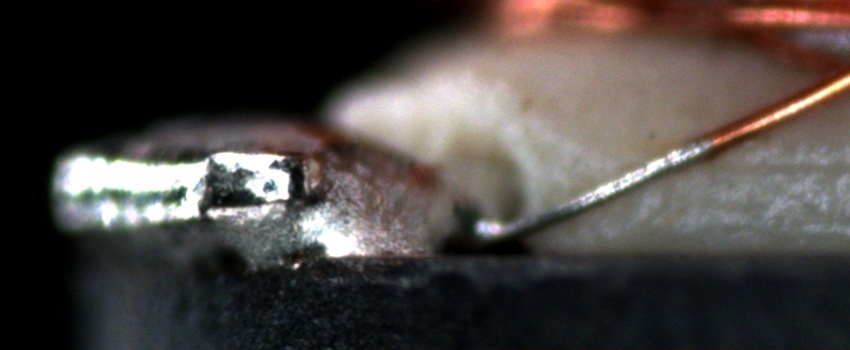DL: (686, 136, 849, 200)
TS: (472, 138, 716, 242)
